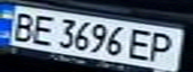3: (51, 16, 78, 50)
6: (69, 19, 93, 53), (106, 24, 130, 57)
9: (87, 21, 109, 55)
B: (3, 9, 42, 43)
E: (124, 27, 160, 62), (24, 12, 60, 46)
P: (142, 29, 184, 65)
